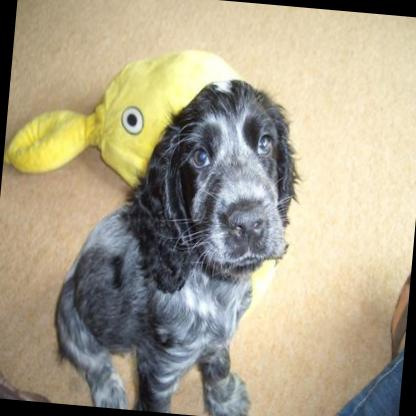cocker_spaniel: (43, 60, 310, 416)
